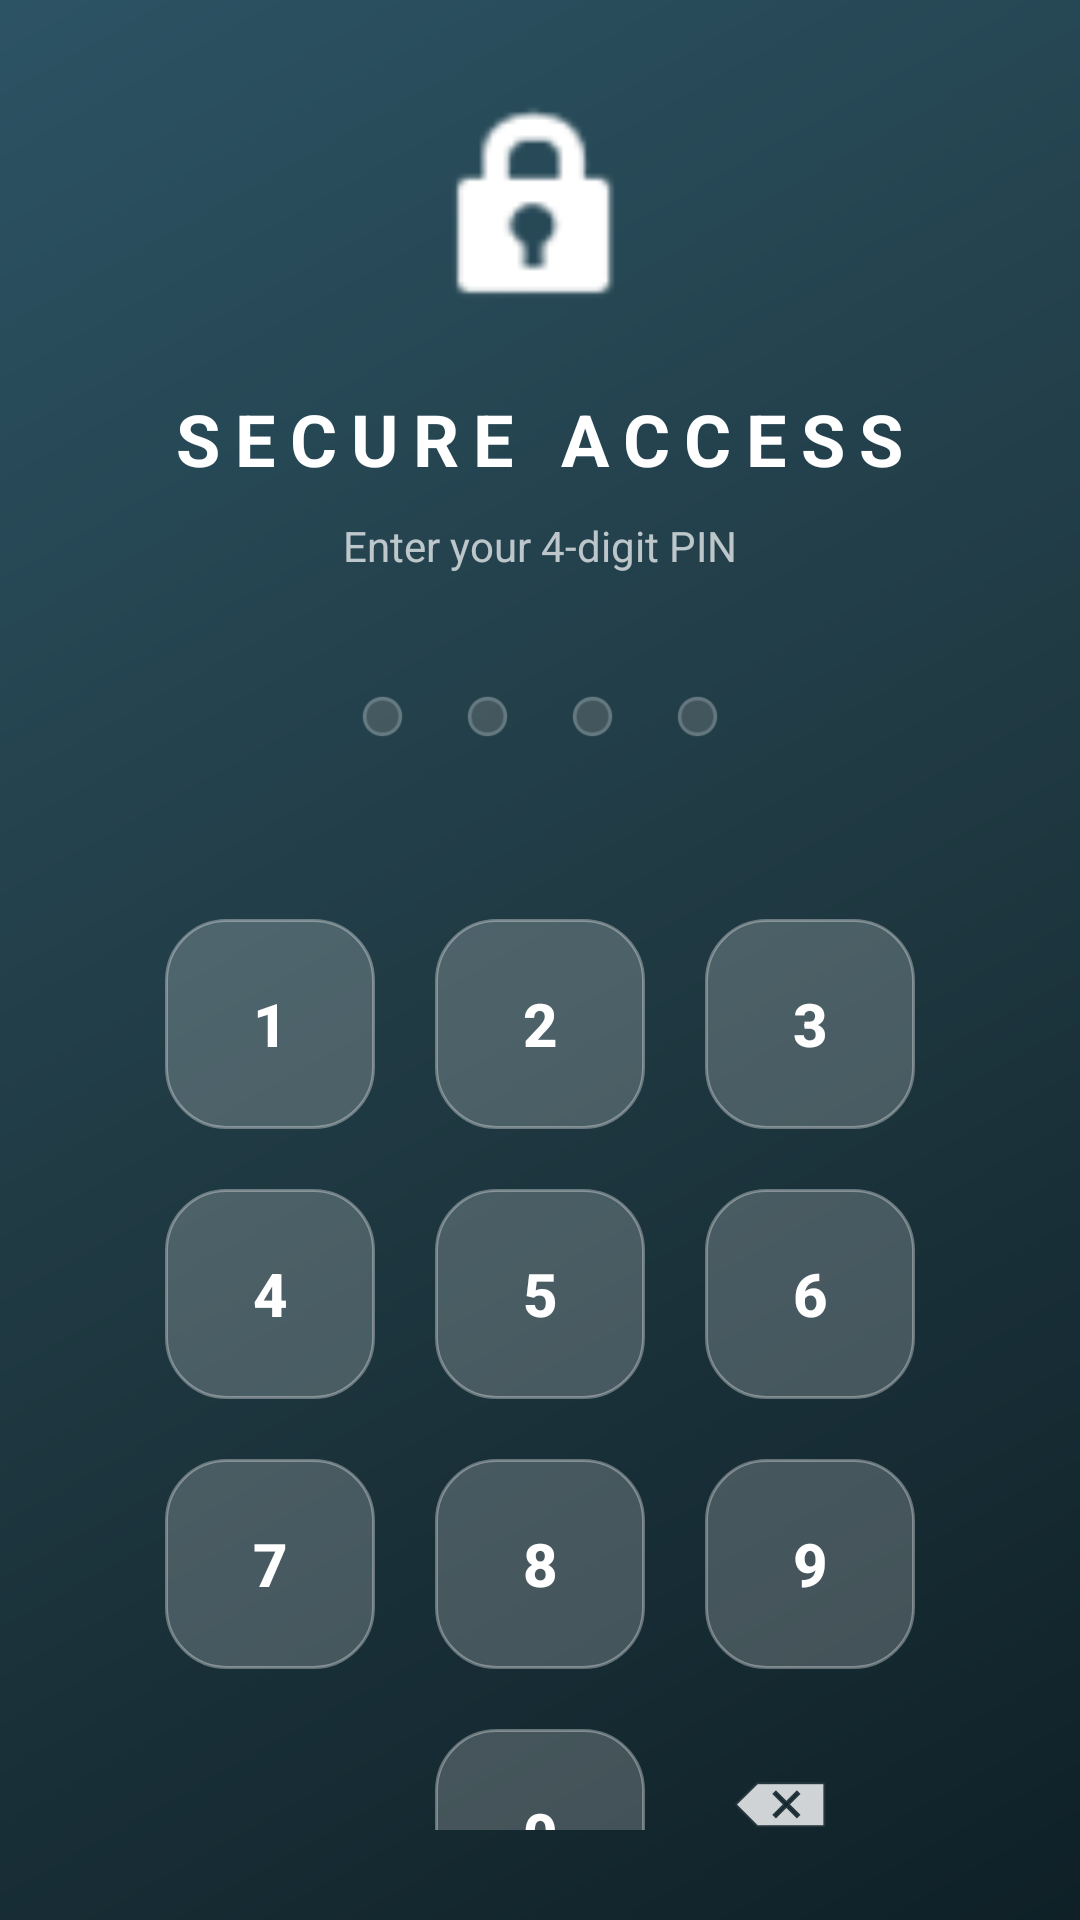

Where icons sit on this 1080px x 1920px app screen, as [x1, y1, x2, y2]:
lock idle: [456, 110, 613, 294]
